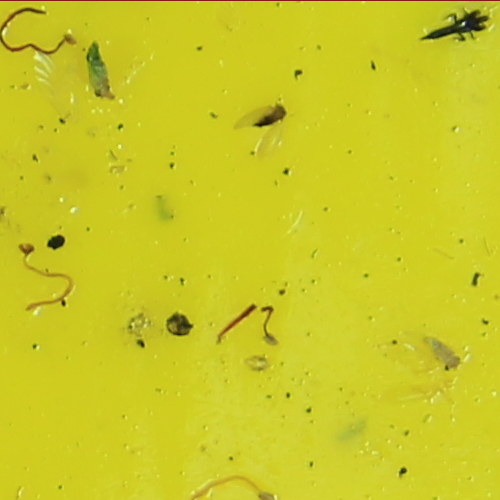Glycaspis: (81, 40, 117, 101), (424, 334, 462, 374)
psylla: (252, 100, 289, 127)
